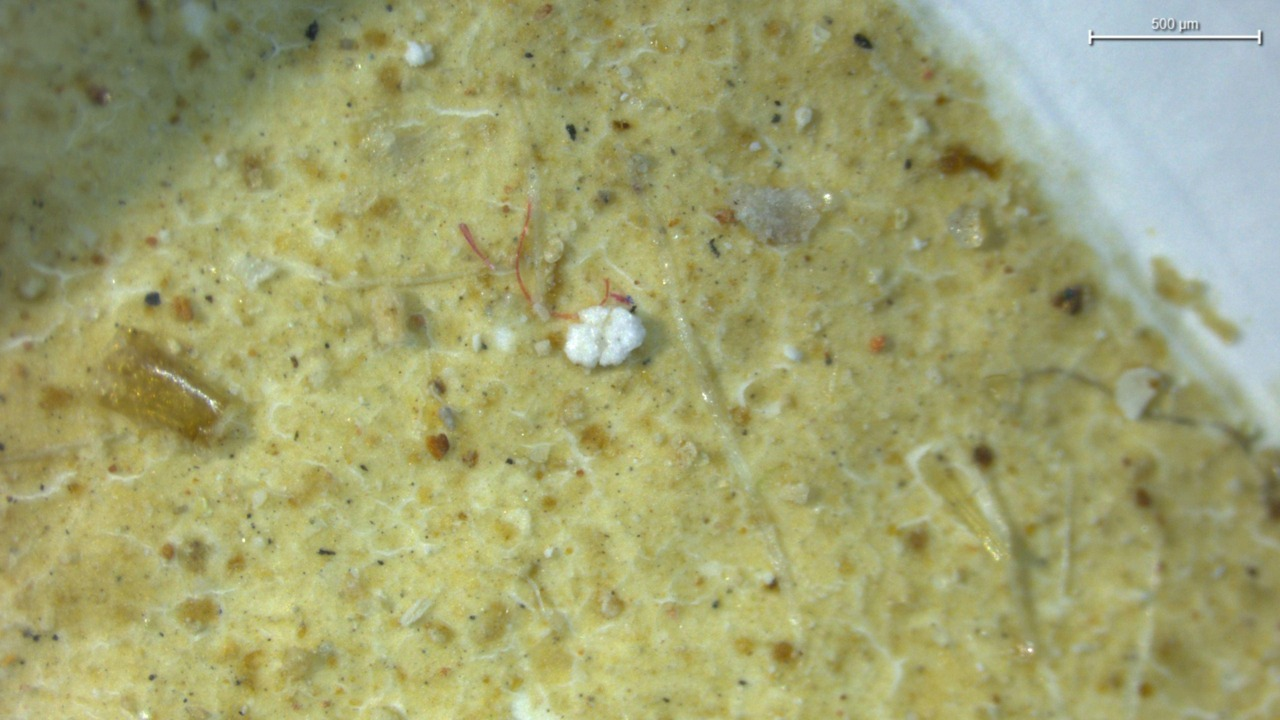microplastic_fragment: (564, 306, 646, 368), (403, 40, 434, 67)
